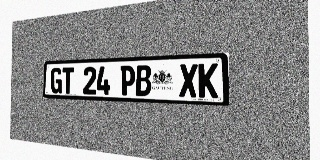2: (83, 67, 96, 95)
4: (96, 66, 110, 95)
B: (135, 65, 151, 96)
G: (51, 68, 62, 94)
K: (198, 63, 218, 98)
P: (120, 65, 135, 96)
T: (62, 67, 74, 94)
X: (179, 64, 198, 97)
